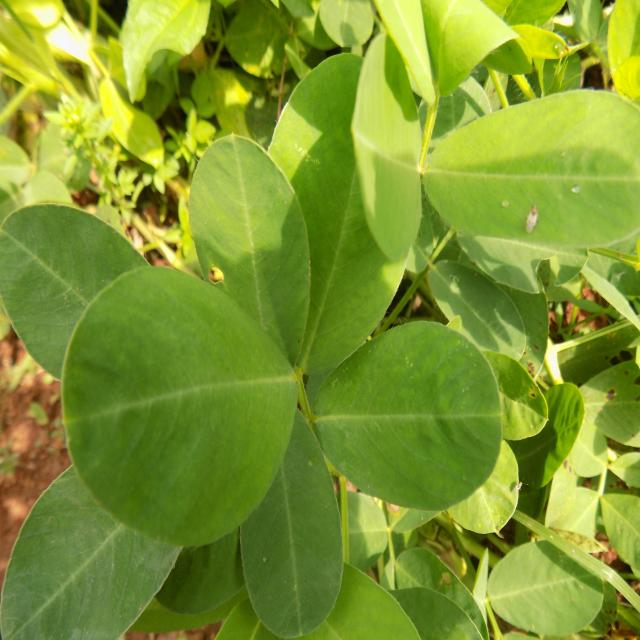Ground nut_healthy: (65, 258, 300, 542), (268, 52, 418, 409), (310, 322, 503, 512), (426, 93, 640, 246), (187, 133, 314, 381), (0, 206, 159, 380), (242, 382, 350, 638), (483, 534, 608, 638), (432, 260, 525, 362)
